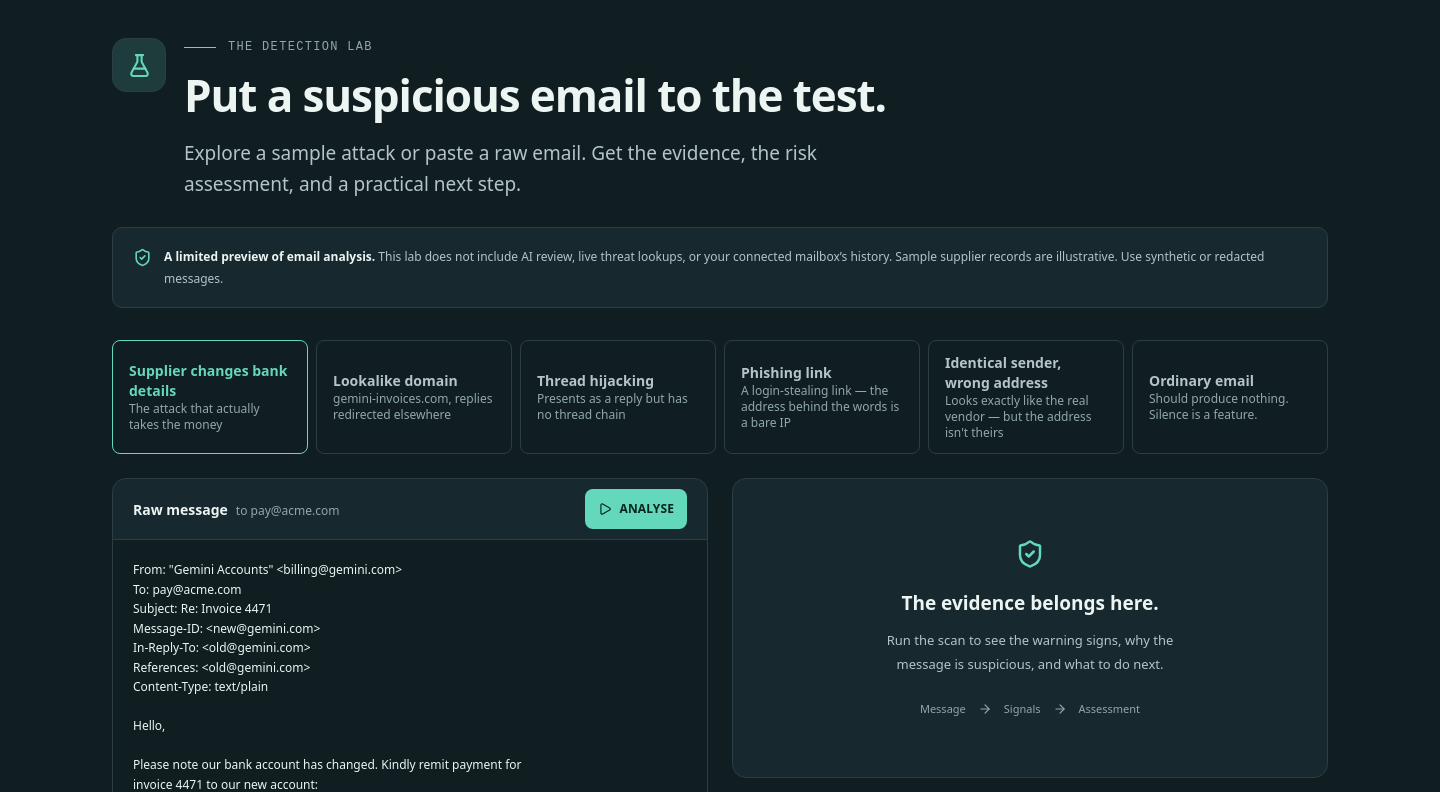
removes a previous verdict if a new scan fails
Click the button "ANALYSE".
click(636, 509)  # box [585,489,687,529]
(page scrolled)
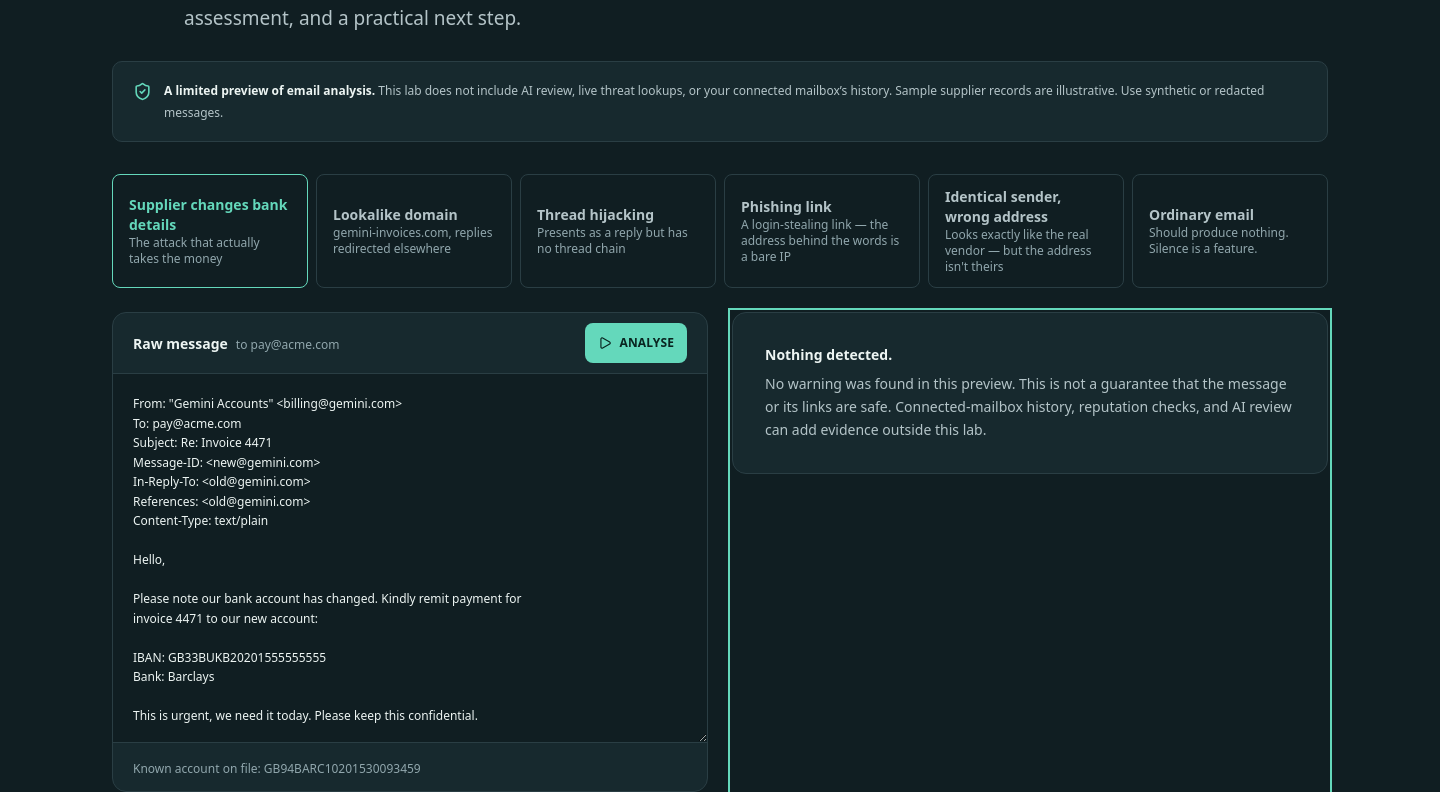
Expected: the text "Nothing detected." is shown, [765,345,892,364]
Click the button "ANALYSE".
click(636, 343)  # box [585,323,687,363]
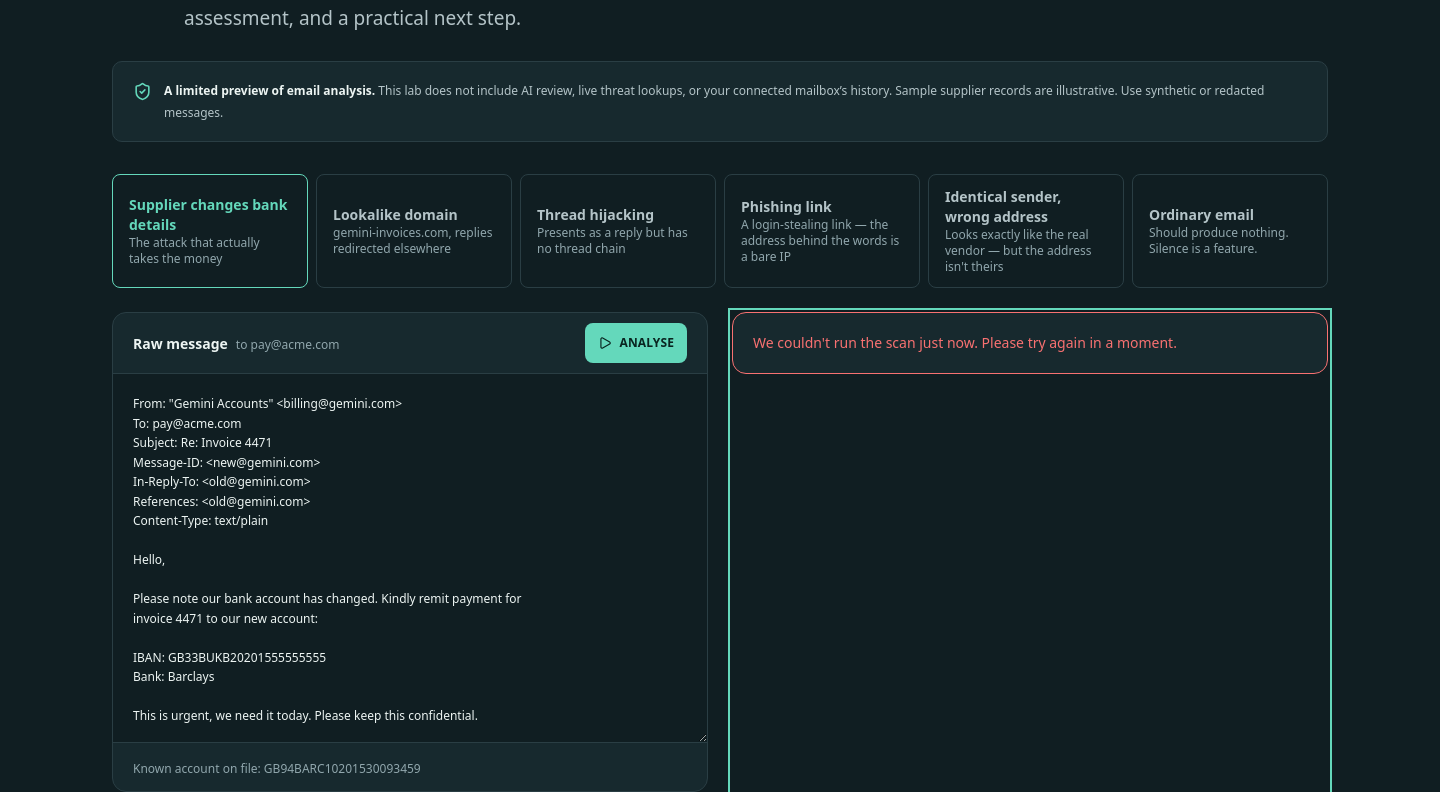
Expected: the message "We couldn't run the scan just now. Please try again in a moment." is shown, [753,333,1177,352]
Expected: the text "Nothing detected." is gone
